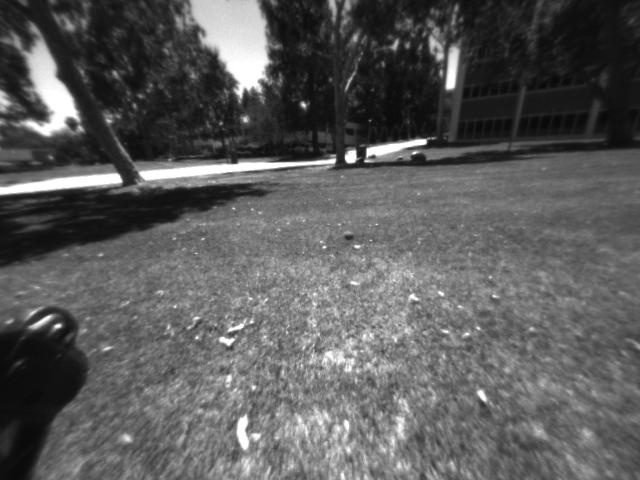dogtoy: (336, 224, 362, 246)
